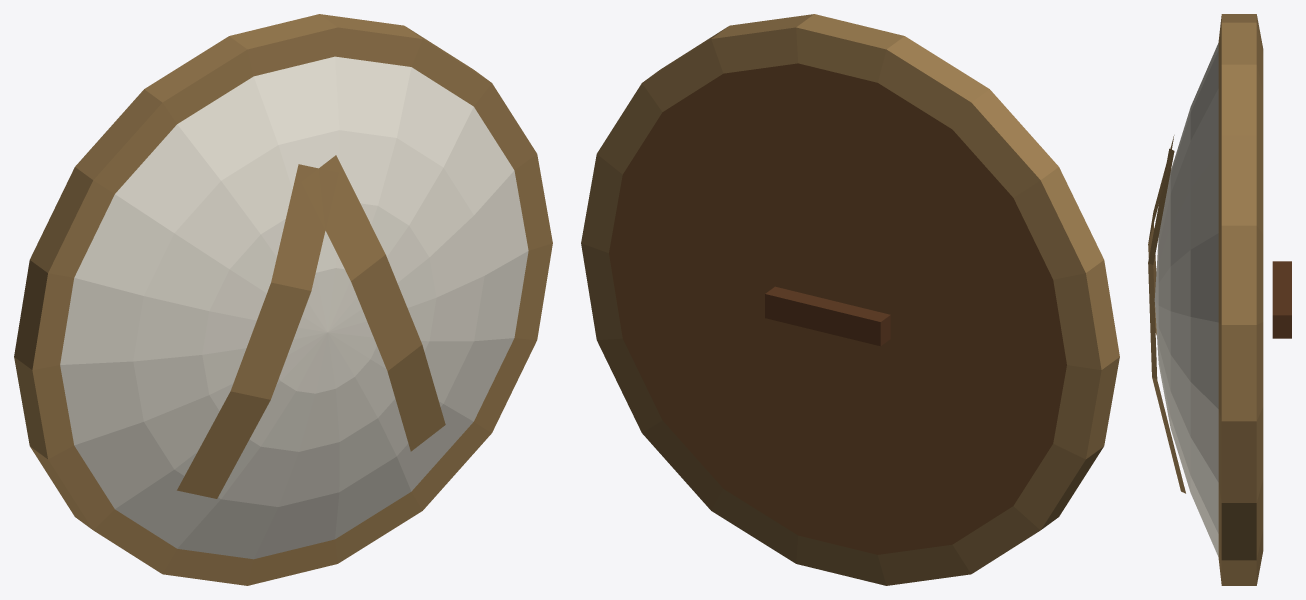
File: prop_aspis.fbx
The picture shows the model from 3 angles, left to right: view 1: azimuth 30°, elevation 25°; view 2: azimuth 150°, elevation 25°; view 3: azimuth 270°, elevation 25°; orthographic projection. The views are drawn at different scales.
Parts seen in each view (by area): view 1: prop_aspis; view 2: prop_aspis; view 3: prop_aspis.
Part boxes in pixels (x1=…): prop_aspis: x1=14, y1=14, x2=552, y2=585; prop_aspis: x1=581, y1=14, x2=1119, y2=585; prop_aspis: x1=1148, y1=14, x2=1291, y2=585.
Size of the model in its own units: 0.9 by 0.8863 by 0.2254.
Materials: 1 (1 with a texture image).
